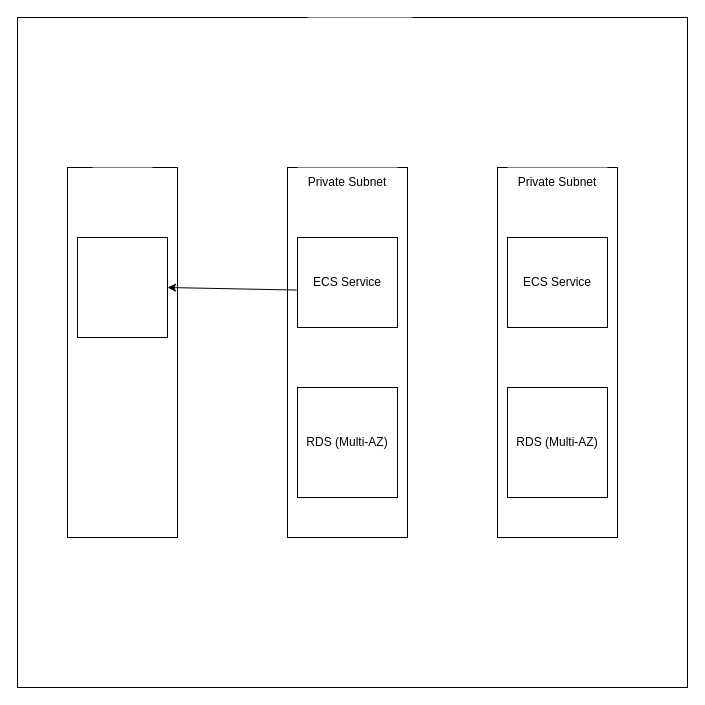
Some shapes in this 705 by 705 pixel diagram are drawn without their labels. Each missing label, with the box of its shape:
ALB: (76, 236, 168, 338)
AWS VPC: (307, 17, 412, 37)
Public Subnet: (92, 167, 152, 207)
